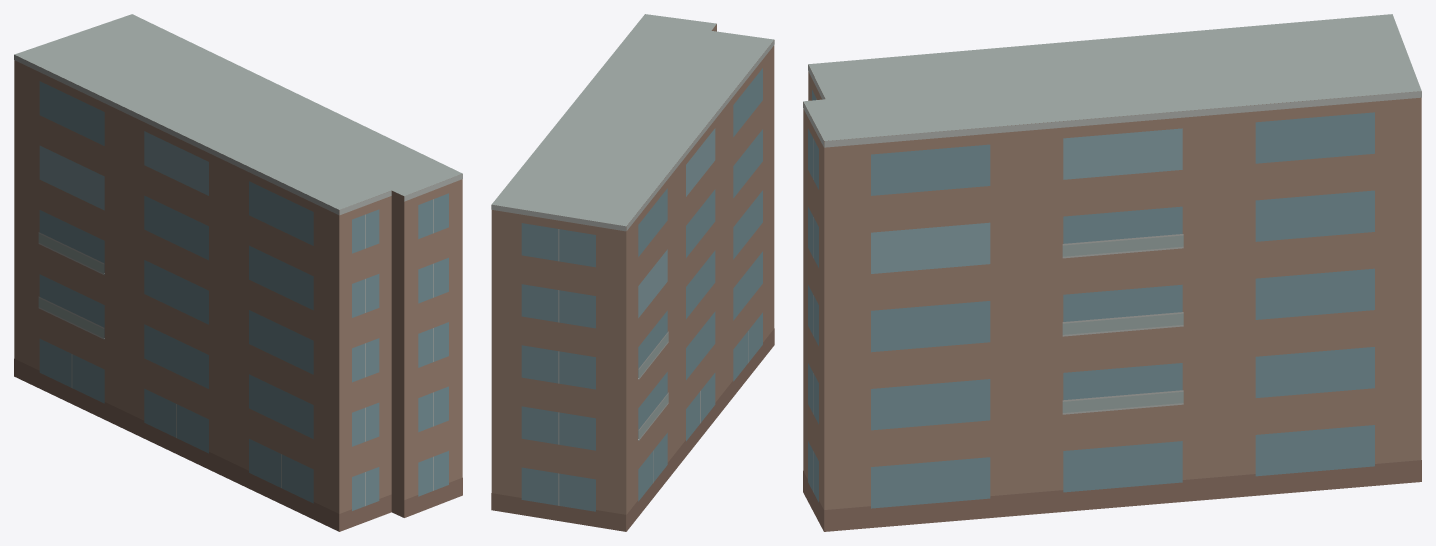
File: survey-upis-32876915.glb
The picture shows the model from 3 angles, left to right: view 1: azimuth 30°, elevation 25°; view 2: azimuth 150°, elevation 25°; view 3: azimuth 270°, elevation 25°; orthographic projection. The views are drawn at different scales.
Visible parts, largest first — view 1: survey-upis-32876915.tmp; view 2: survey-upis-32876915.tmp; view 3: survey-upis-32876915.tmp.
Part boxes in pixels (x1=…): survey-upis-32876915.tmp: x1=14, y1=14, x2=462, y2=531; survey-upis-32876915.tmp: x1=491, y1=14, x2=774, y2=531; survey-upis-32876915.tmp: x1=803, y1=14, x2=1421, y2=531.
Bounding box in the file's own units: 10.12 × 14.5 × 20.82.
